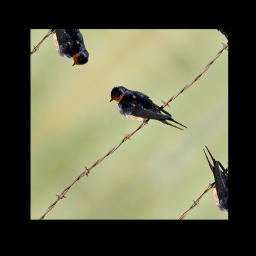Swallow: (103, 70, 189, 153)
